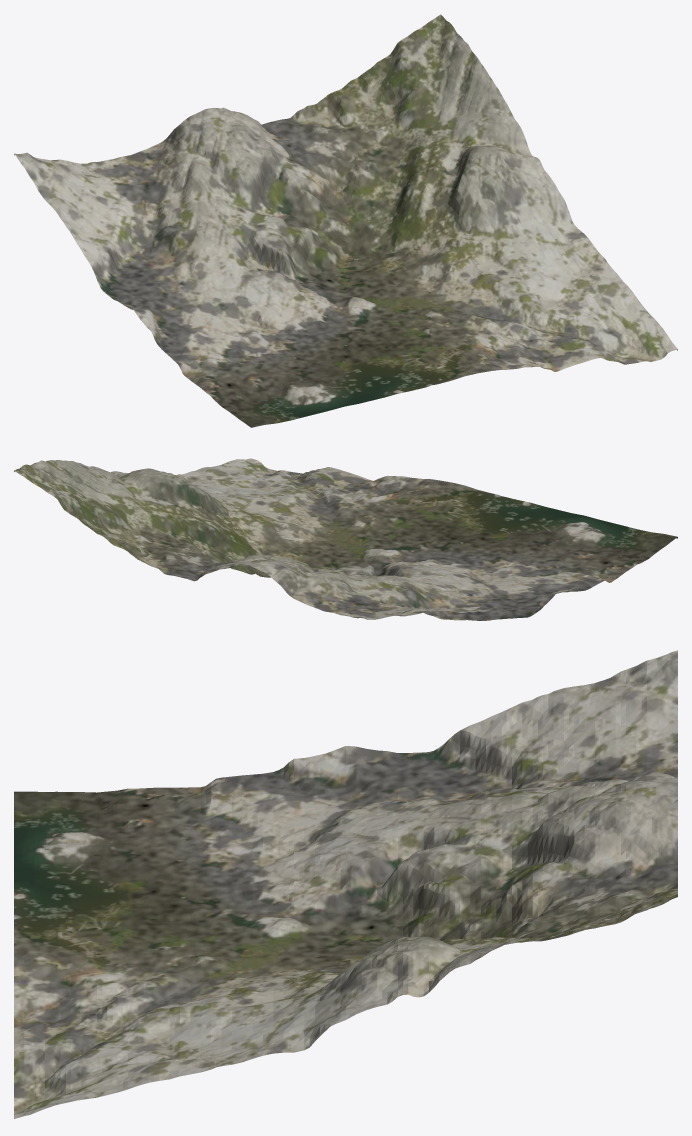
3 views of the same model, one above another, from view 1: azimuth 30°, elevation 25°; view 2: azimuth 150°, elevation 25°; view 3: azimuth 270°, elevation 25° (orthographic). The views are drawn at different scales.
Size of the model in its own units: 250 by 94.83 by 241.
Materials: 1 (1 with a texture image).
